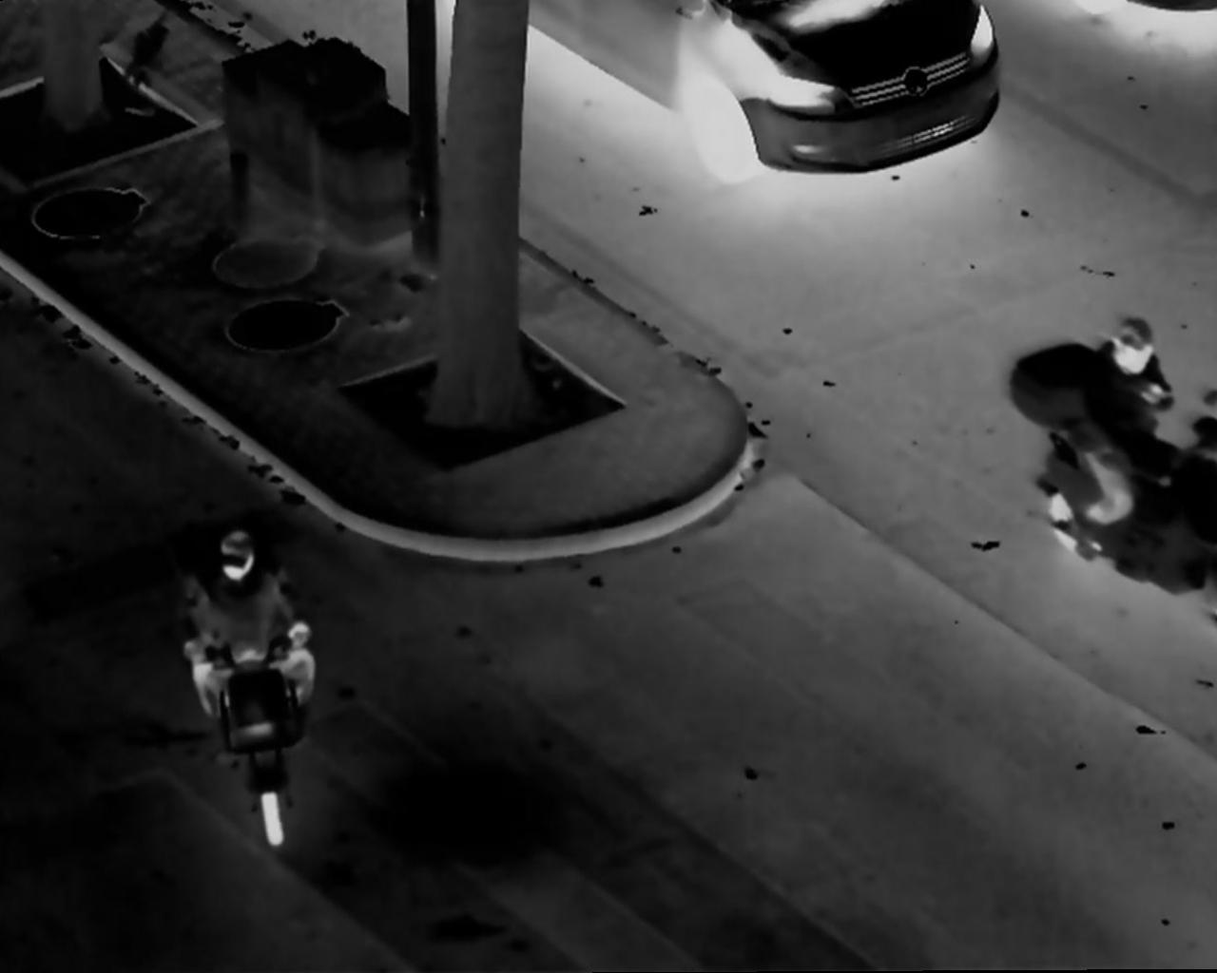person: (178, 526, 322, 746), (1071, 315, 1176, 549)
